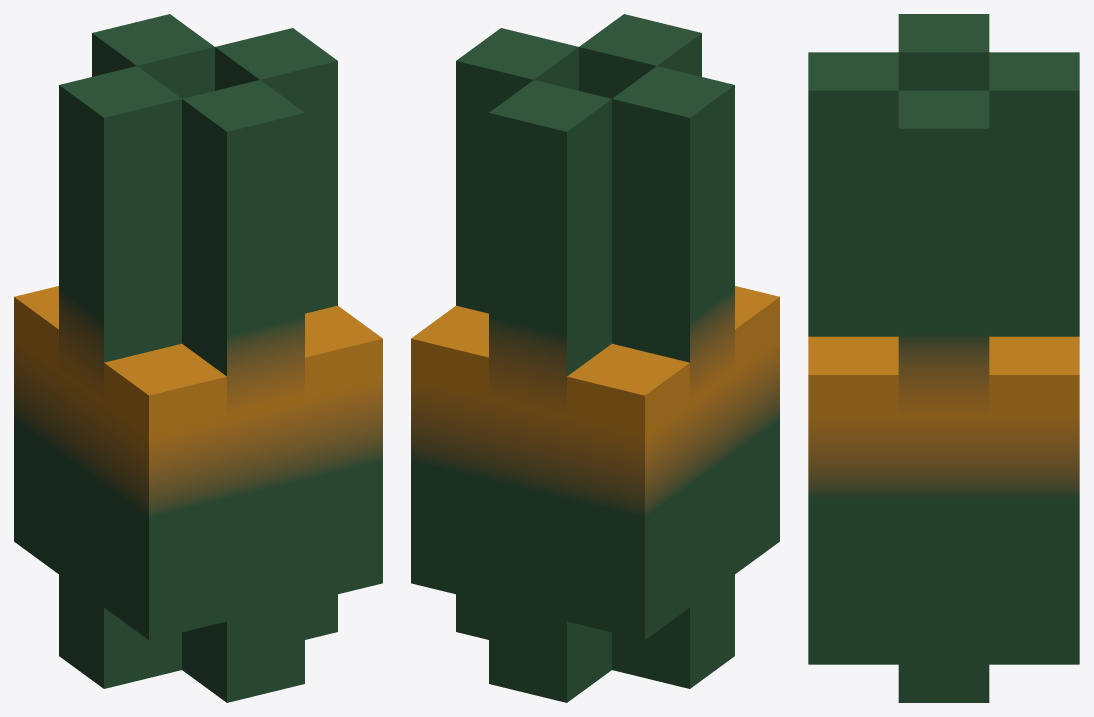
Rendered from Bottle_Green_00.fbx.
3 renders of one model, left to right at view 1: azimuth 30°, elevation 25°; view 2: azimuth 150°, elevation 25°; view 3: azimuth 270°, elevation 25°, orthographic.
Parts seen in each view (by area): view 1: Bottle_Green_00; view 2: Bottle_Green_00; view 3: Bottle_Green_00.
Part boxes in pixels (box(x1,y1,x2,y2)): Bottle_Green_00: box(14, 14, 382, 702); Bottle_Green_00: box(411, 14, 779, 702); Bottle_Green_00: box(808, 14, 1079, 702).
Size of the model in its own units: 15 by 35 by 15.
